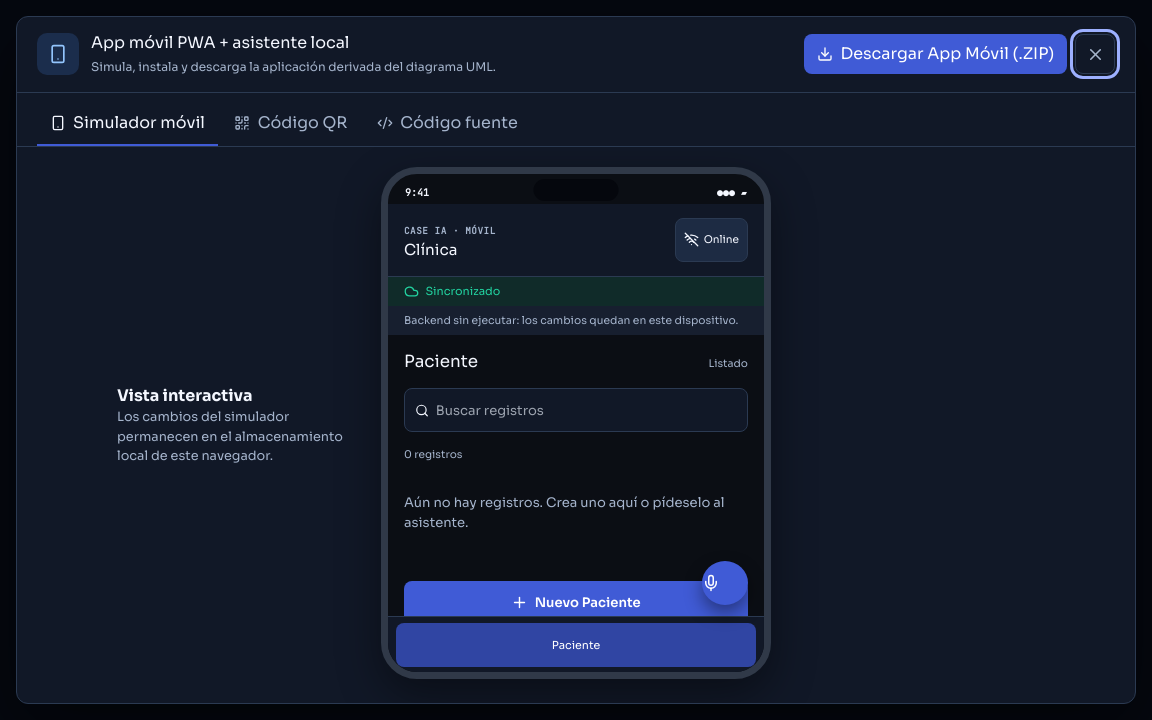
Test: MobileAppModal (CU-15/CU-16) › interpreta texto sin red y conserva cambios pendientes en Modo Avión
Click the button with aria-label "Modo Avión": (711, 240) x1=675 y1=218 x2=748 y2=262
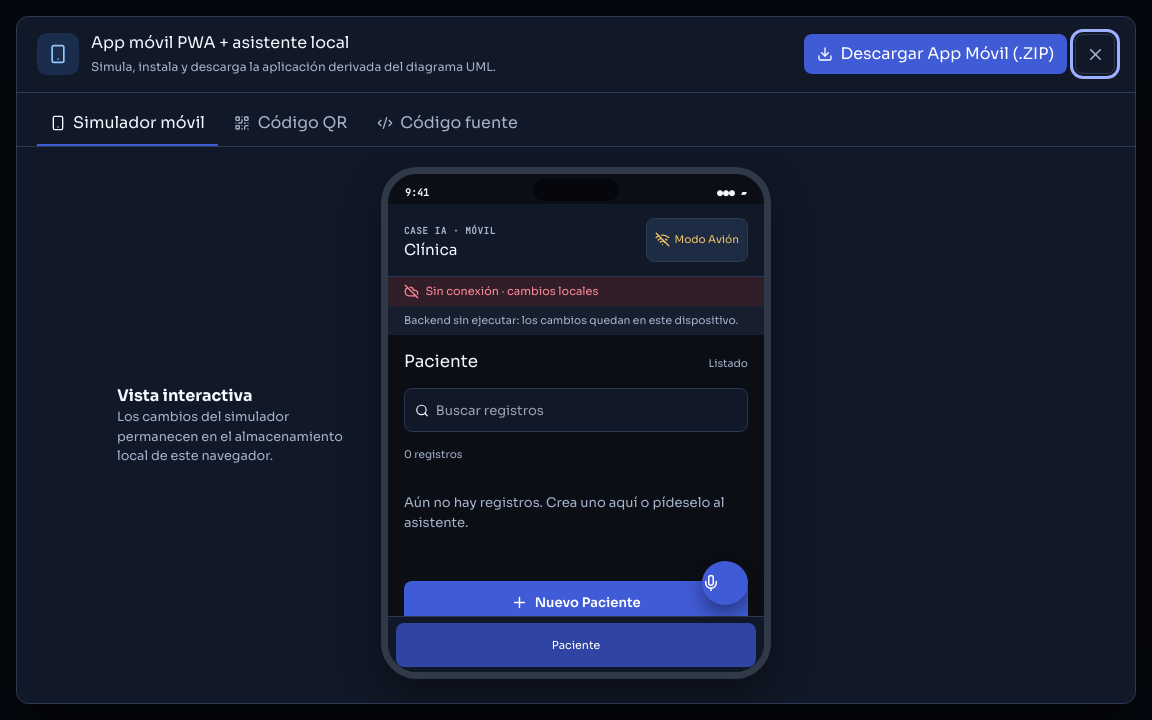
Click the button named "Abrir asistente": (725, 583) x1=702 y1=561 x2=748 y2=605
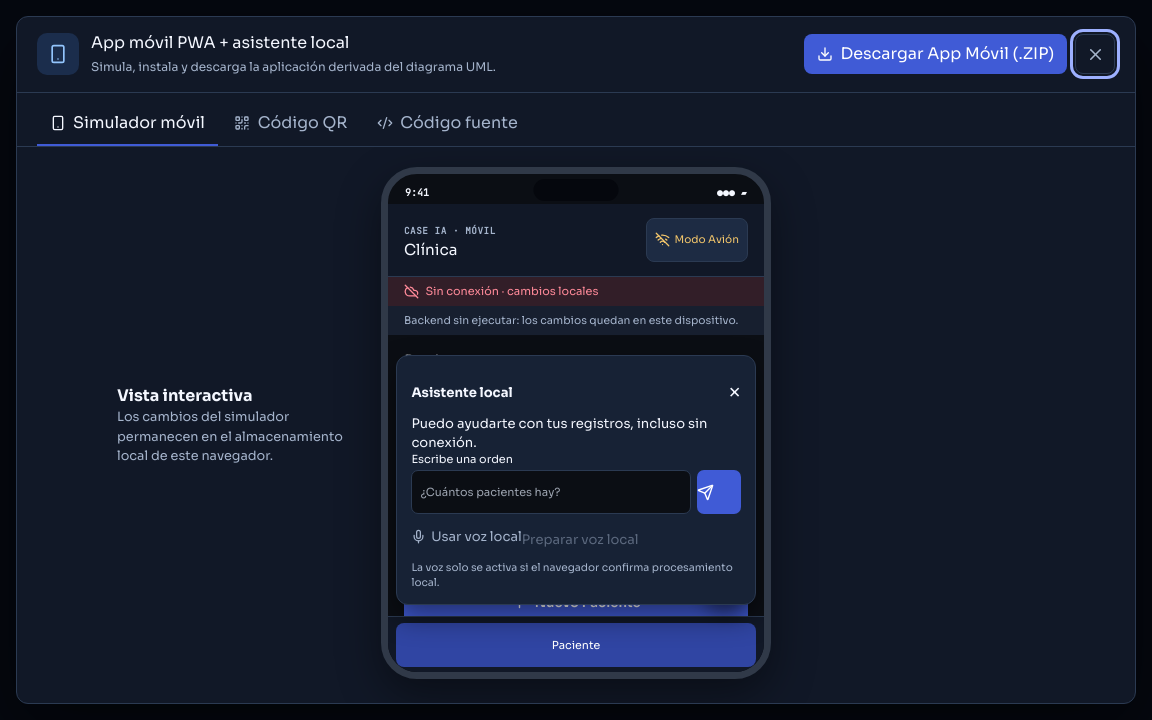
In the field labelled "Escribe una orden": (551, 492) x1=411 y1=470 x2=691 y2=514, type "Registra un nuevo paciente con nombre Ana"
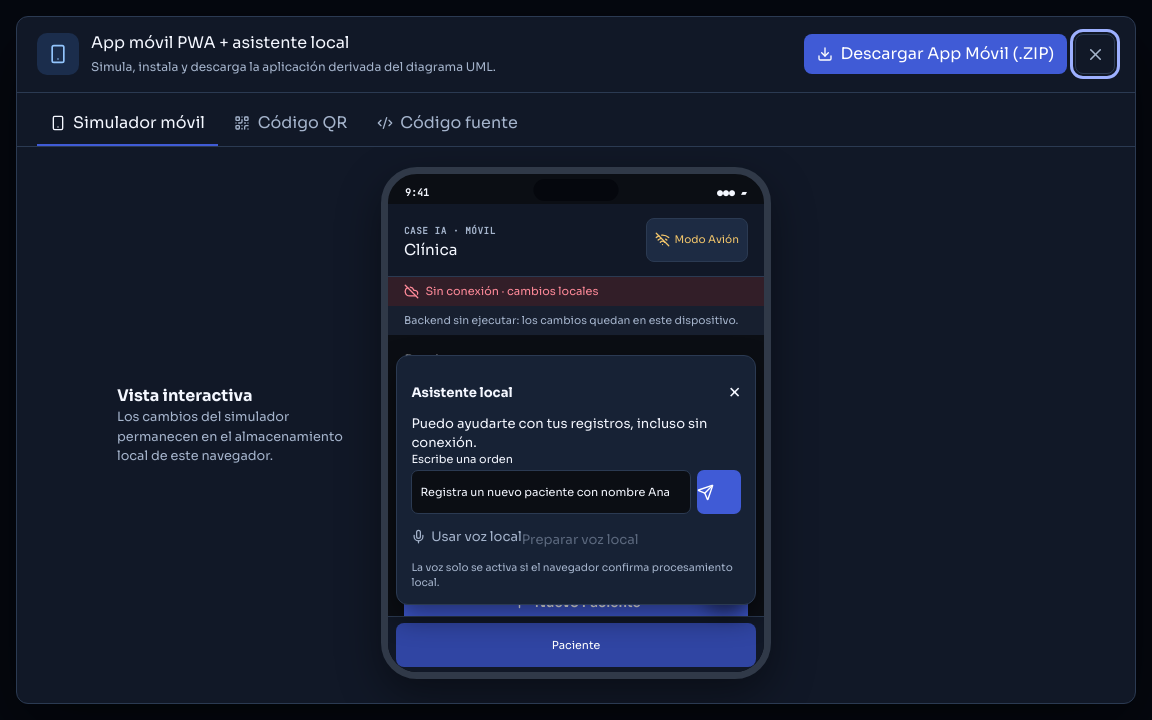
Click the button named "Enviar orden": (719, 492) x1=697 y1=470 x2=741 y2=514
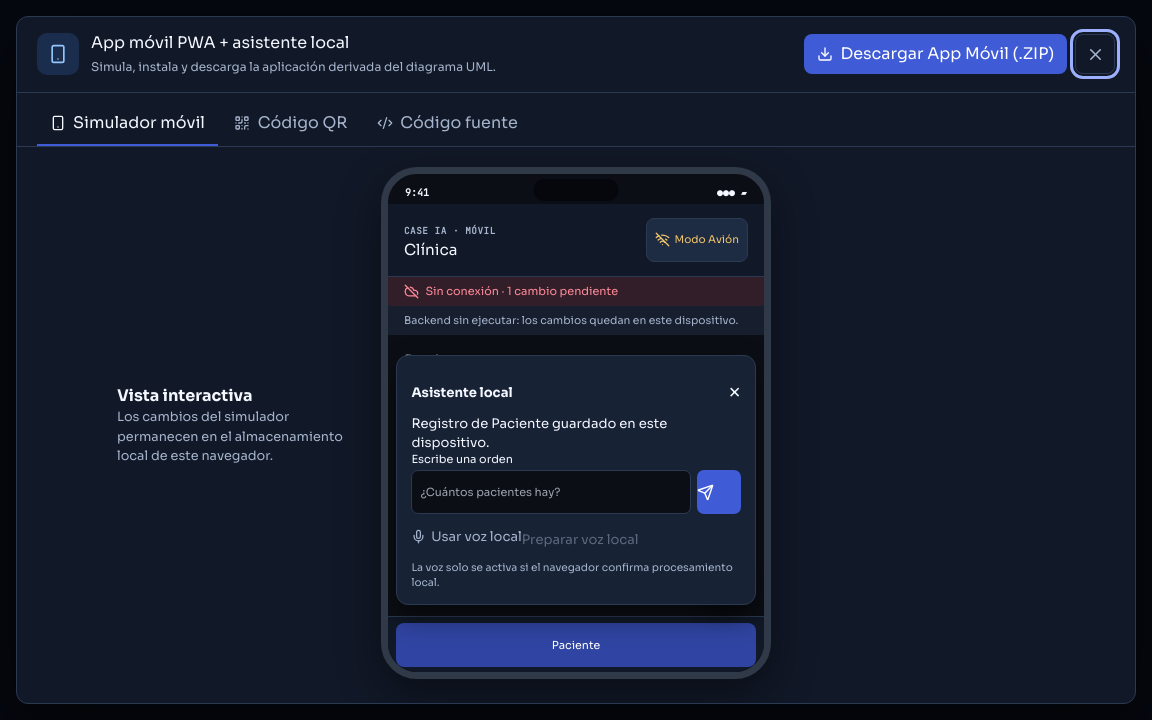
Now the text "Sin conexión · 1 cambio pendiente" is shown, box x1=425 y1=284 x2=618 y2=298
Now the text "Registro de Paciente guardado en este dispositivo." is shown, box x1=411 y1=415 x2=667 y2=451
